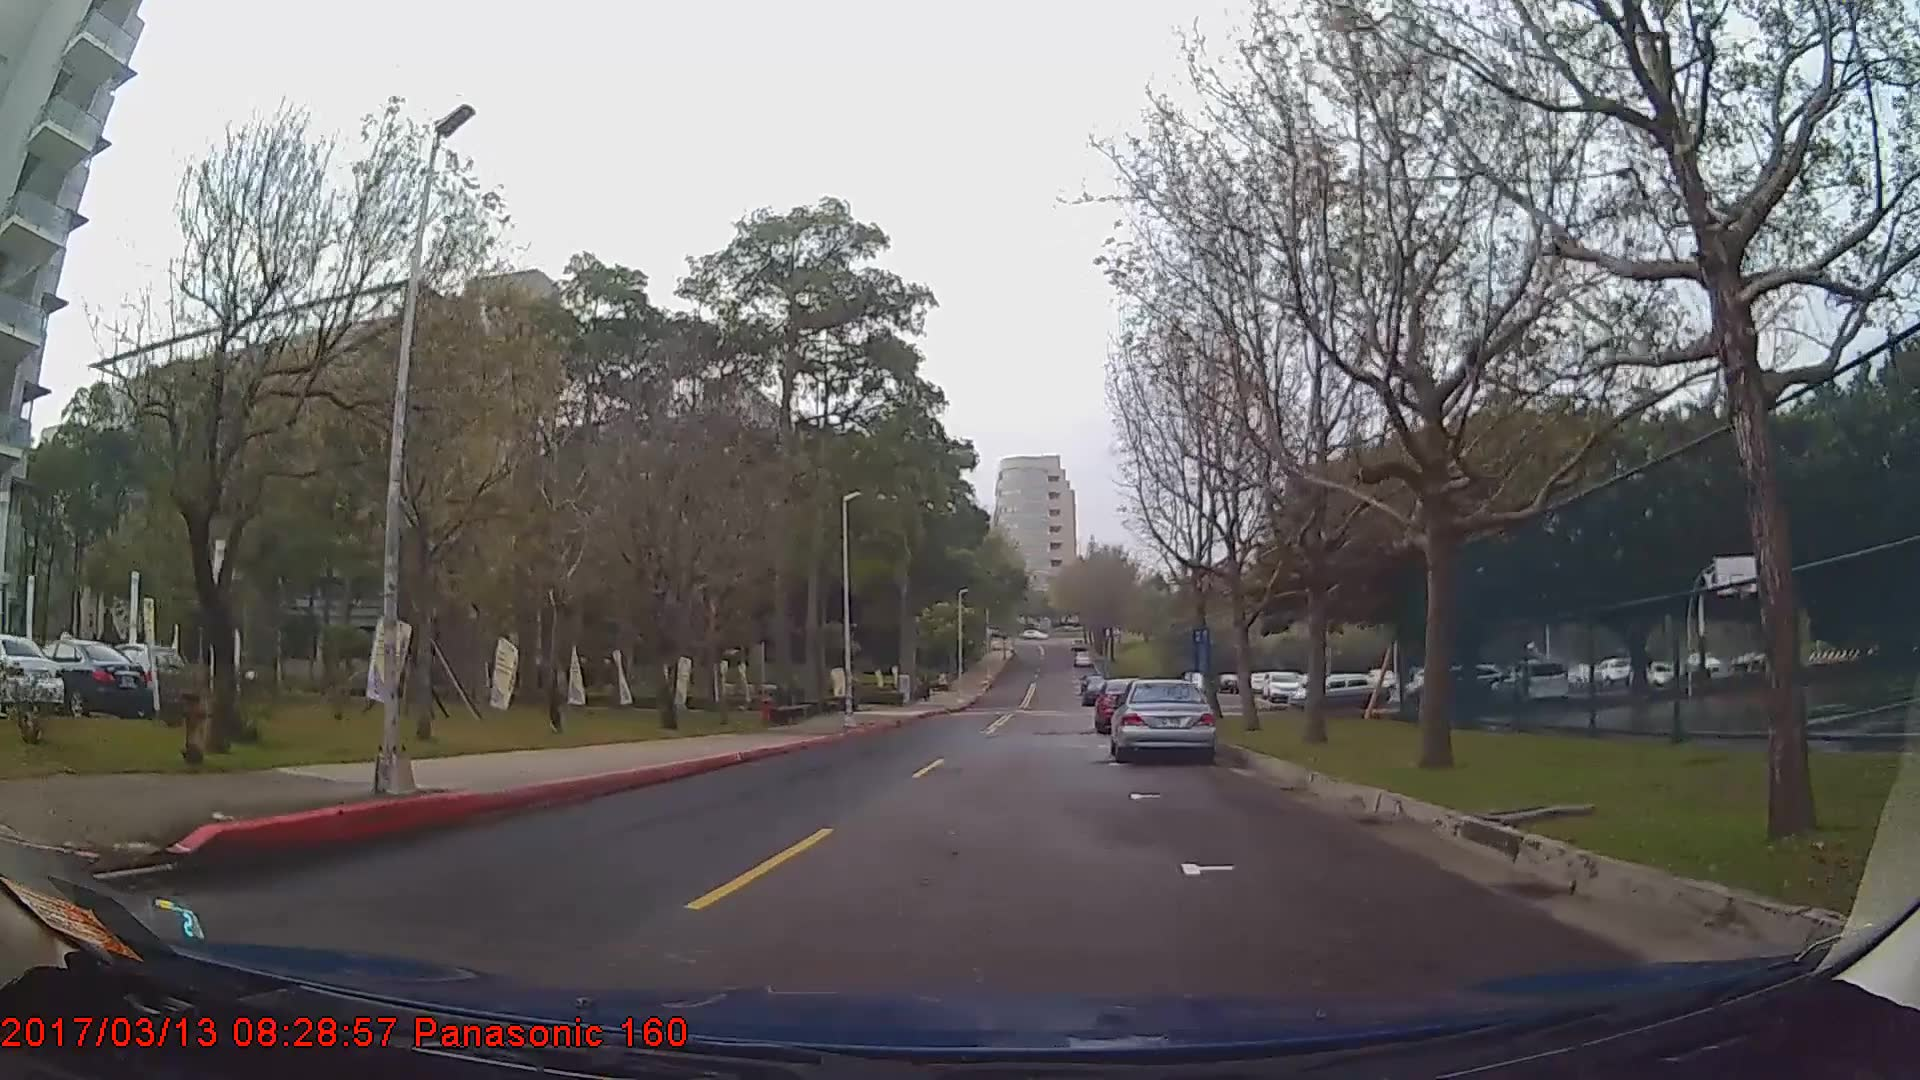vehicle: (28, 637, 146, 721), (1112, 679, 1218, 765), (90, 641, 185, 709), (0, 630, 65, 717), (1286, 669, 1389, 711)
